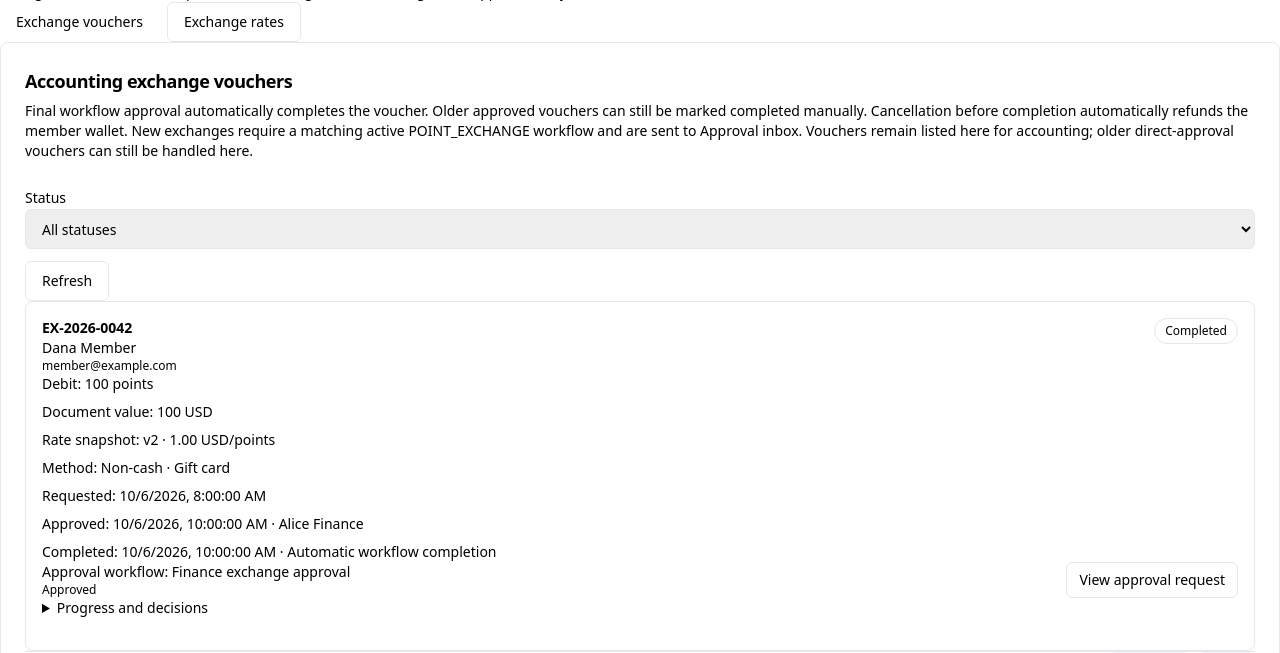
Scenario: shows a completed workflow voucher with named approvers, comments, times and its approval link
expect the text "EX-2026-0042" is shown: met, box [42,318,132,337]
expect the text "Automatic workflow completion" is shown: met, box [287,542,496,561]
What coordinates should you click on to do the following:
click the heading "Progress and decisions"
I would click on:
 (132, 608)
Its box is [57,598,208,617].
(page scrolled)
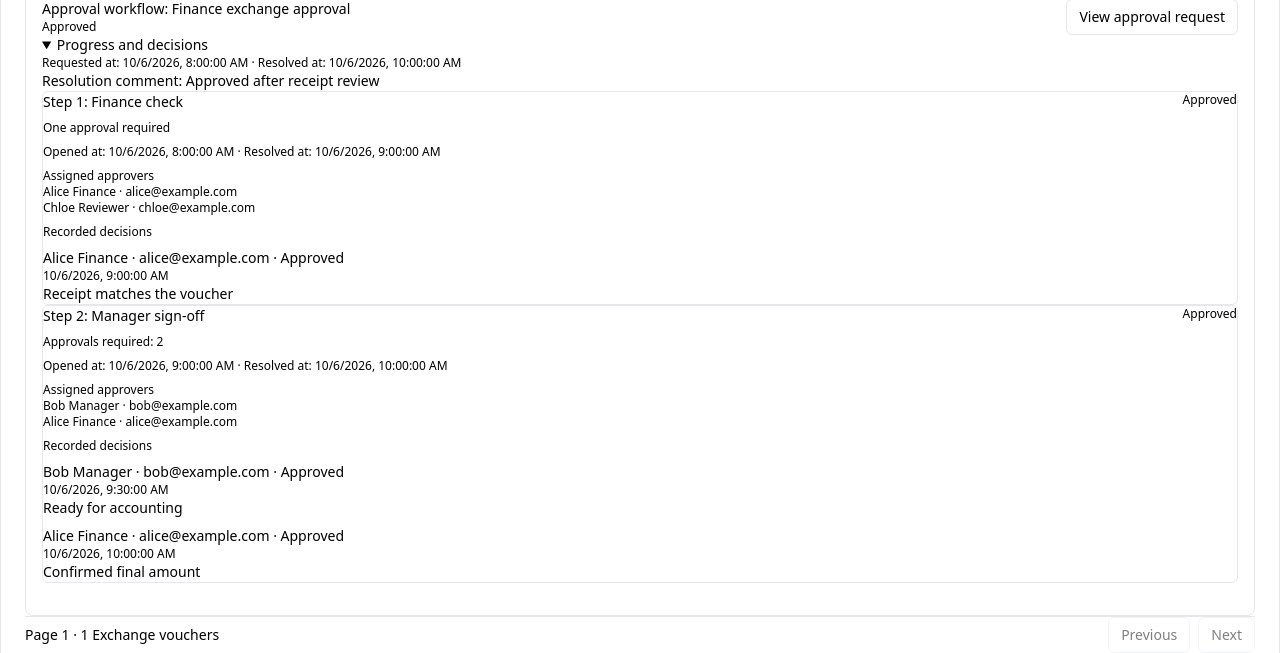
expect the text "Step 1: Finance check" is shown: met, box [43,92,183,112]
expect the text "Step 2: Manager sign-off" is shown: met, box [43,306,204,326]
expect the text "One approval required" is shown: met, box [43,119,170,136]
